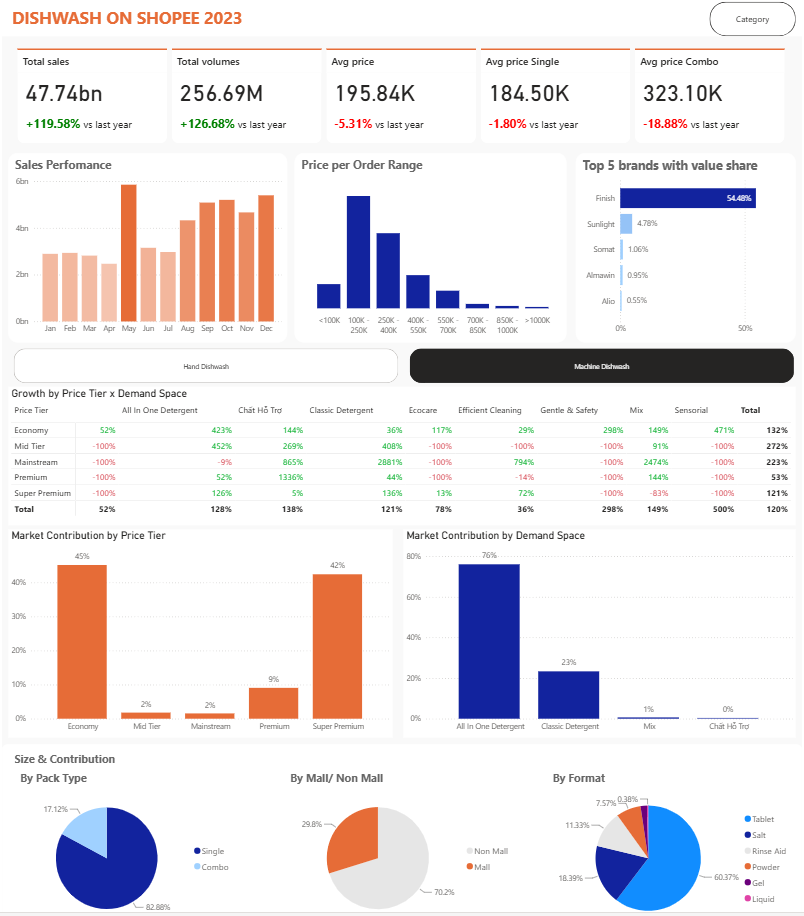

This screenshot's page, from the dashboard's own definition file:
{"tool":"powerbi","page":{"name":"Market Overview","canvas":[1280,1500],"ordinal":0},"visuals":[{"type":"shape","box":[0,1195,1280,305],"z":0},{"type":"shape","box":[0,0,1280,61.4],"z":1000},{"type":"pieChart","title":"By Mall/ Non Mall","fields":{"Y":["Sum(full data.NMV)"],"Category":["full data.MALL/ NON MALL"]},"box":[456.7,1236.7,368.3,263.3],"z":2000},{"type":"pieChart","title":"By Format","fields":{"Y":["Sum(full data.NMV)"],"Category":["full data.FORMAT"]},"box":[876.7,1236.7,393.3,263.3],"z":3000},{"type":"clusteredColumnChart","title":"Market Contribution by Demand Space","fields":{"Category":["full data.DW Demand Space"],"Y":["_Measure.Total sales"]},"box":[641.7,850,628.3,333.3],"z":4000},{"type":"clusteredBarChart","title":"Top 5 brands with value share","fields":{"Category":["full data.BRAND"],"Y":["_Measure.Brand val share"]},"box":[918.3,248.3,351.7,303.3],"z":5000},{"type":"clusteredColumnChart","title":"Sales Perfomance","fields":{"Category":["Calendar.Month name"],"Y":["_Measure.Value sale"]},"box":[10,248.3,446.7,303.3],"z":6000},{"type":"pieChart","title":"By Pack Type","fields":{"Y":["Sum(full data.NMV)"],"Category":["full data.PACK TYPE"]},"box":[23.3,1236.7,353.3,263.3],"z":7000},{"type":"advancedSlicerVisual","fields":{"Values":["full data.SUB-CAT"]},"box":[13.3,555,1258.3,65],"z":8000},{"type":"clusteredColumnChart","title":"Price per Order Range","fields":{"Category":["Dim_PPL_Range.PPL Range"],"Y":["_Measure.Price per order"]},"box":[468.3,248.3,435,303.3],"z":9000},{"type":"clusteredColumnChart","title":"Market Contribution by Price Tier","fields":{"Category":["Dim_PriceTier.Price Tier"],"Y":["_Measure.Value sale"]},"box":[10,850,615,333.3],"z":10000},{"type":"cardVisual","fields":{"Rows":["Test.Title"],"Data":["_Measure.Table value"]},"box":[0,75,1280,161.7],"z":11000},{"type":"pageNavigator","box":[1131.7,6.7,138.3,55],"z":12000},{"type":"pivotTable","title":"Growth by Price Tier x Demand Space","fields":{"Rows":["Dim_PriceTier.Price Tier"],"Values":["_Measure.Value growth %"],"Columns":["full data.DW Demand Space"]},"box":[10,621.7,1260,221.7],"z":13000}]}

Visuals, with their boxes in screenshot pixels (x1, y1, x2, y2), scaled from the page's 1280x1500 canvas onto the 804x916 screenshot:
shape: [x1=0, y1=730, x2=803, y2=915]
shape: [x1=0, y1=0, x2=803, y2=37]
"By Mall/ Non Mall" pieChart: [x1=287, y1=755, x2=518, y2=915]
"By Format" pieChart: [x1=551, y1=755, x2=798, y2=915]
"Market Contribution by Demand Space" clusteredColumnChart: [x1=403, y1=519, x2=798, y2=723]
"Top 5 brands with value share" clusteredBarChart: [x1=577, y1=152, x2=798, y2=337]
"Sales Perfomance" clusteredColumnChart: [x1=6, y1=152, x2=287, y2=337]
"By Pack Type" pieChart: [x1=15, y1=755, x2=237, y2=915]
advancedSlicerVisual - full data.SUB-CAT: [x1=8, y1=339, x2=799, y2=379]
"Price per Order Range" clusteredColumnChart: [x1=294, y1=152, x2=567, y2=337]
"Market Contribution by Price Tier" clusteredColumnChart: [x1=6, y1=519, x2=393, y2=723]
cardVisual - Test.Title x _Measure.Table value: [x1=0, y1=46, x2=803, y2=145]
pageNavigator: [x1=711, y1=4, x2=798, y2=38]
"Growth by Price Tier x Demand Space" pivotTable: [x1=6, y1=380, x2=798, y2=515]
